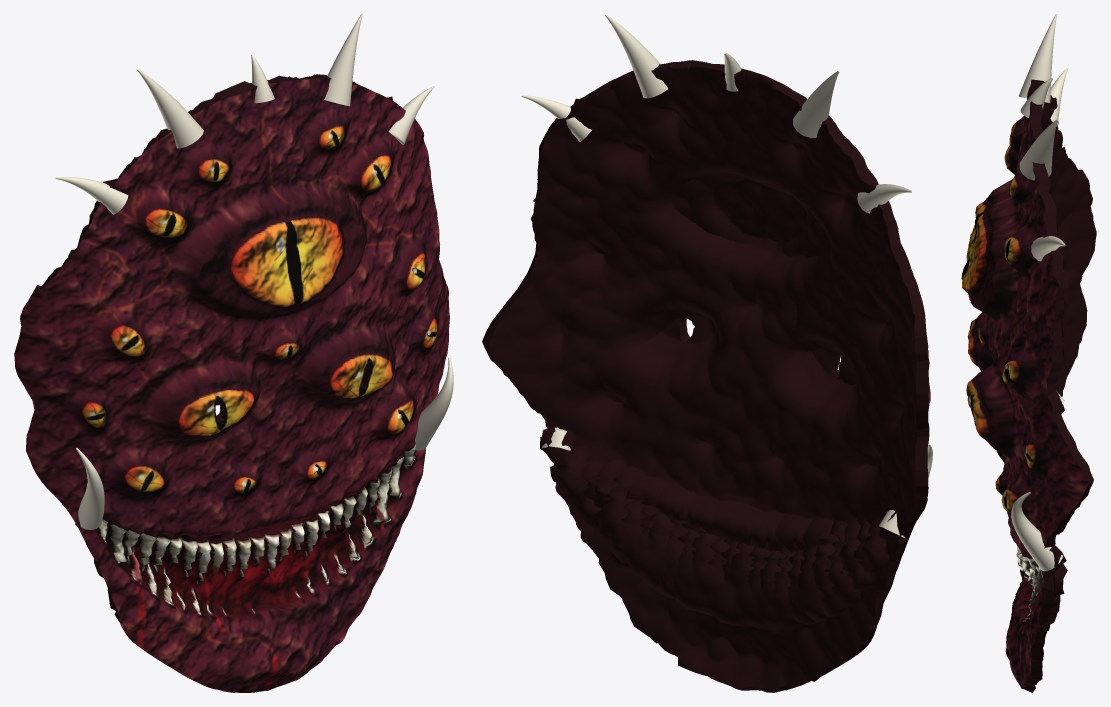
The model's file is 百目鬼_hyakume.glb.
3 renders of one model, left to right at view 1: azimuth 30°, elevation 25°; view 2: azimuth 150°, elevation 25°; view 3: azimuth 270°, elevation 25°, orthographic. The views are drawn at different scales.
Visible parts, largest first — view 1: hyakume; view 2: hyakume; view 3: hyakume.
Part boxes in pixels (x1,y1,x2,y2): hyakume: [14, 14, 453, 692]; hyakume: [482, 14, 932, 692]; hyakume: [961, 14, 1096, 692].
Bounding box in the file's own units: 0.1889 × 0.2661 × 0.0533.
Materials: 2 (1 with a texture image).
